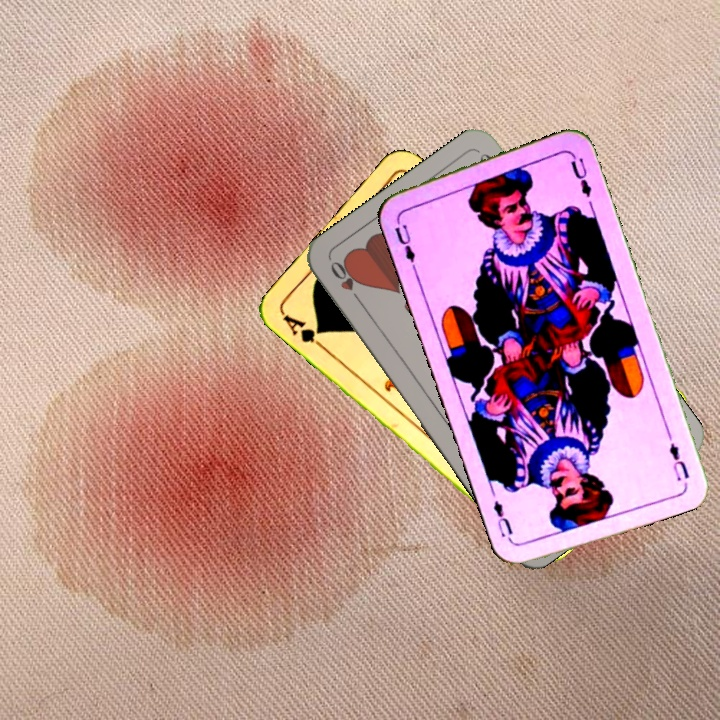EU: (390, 214, 419, 272), (665, 438, 692, 484)
GA: (279, 310, 329, 353)
HO: (326, 257, 366, 309)
